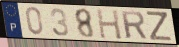0: (24, 6, 44, 36)
3: (49, 7, 70, 37)
8: (74, 8, 96, 39)
H: (95, 8, 123, 40)
R: (119, 10, 149, 40)
Z: (145, 10, 173, 42)
